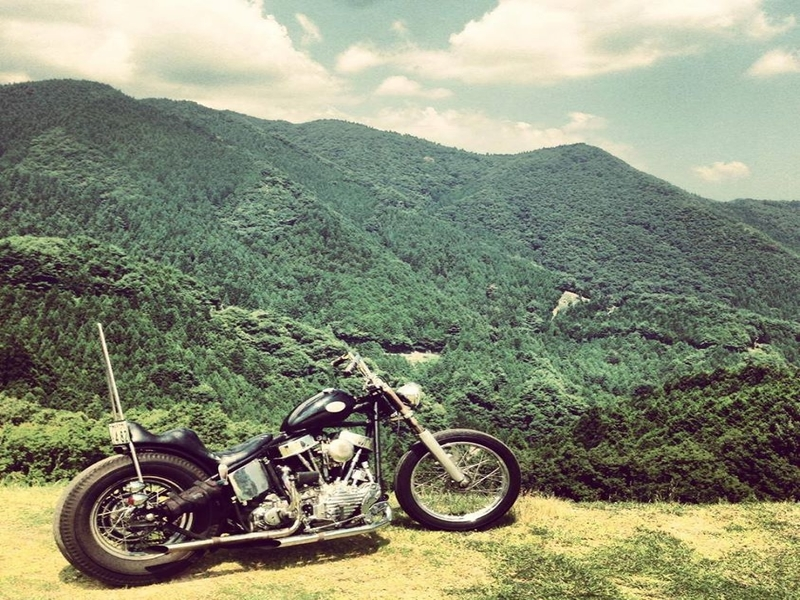motorcycle: (58, 324, 519, 587), (58, 324, 519, 587)
